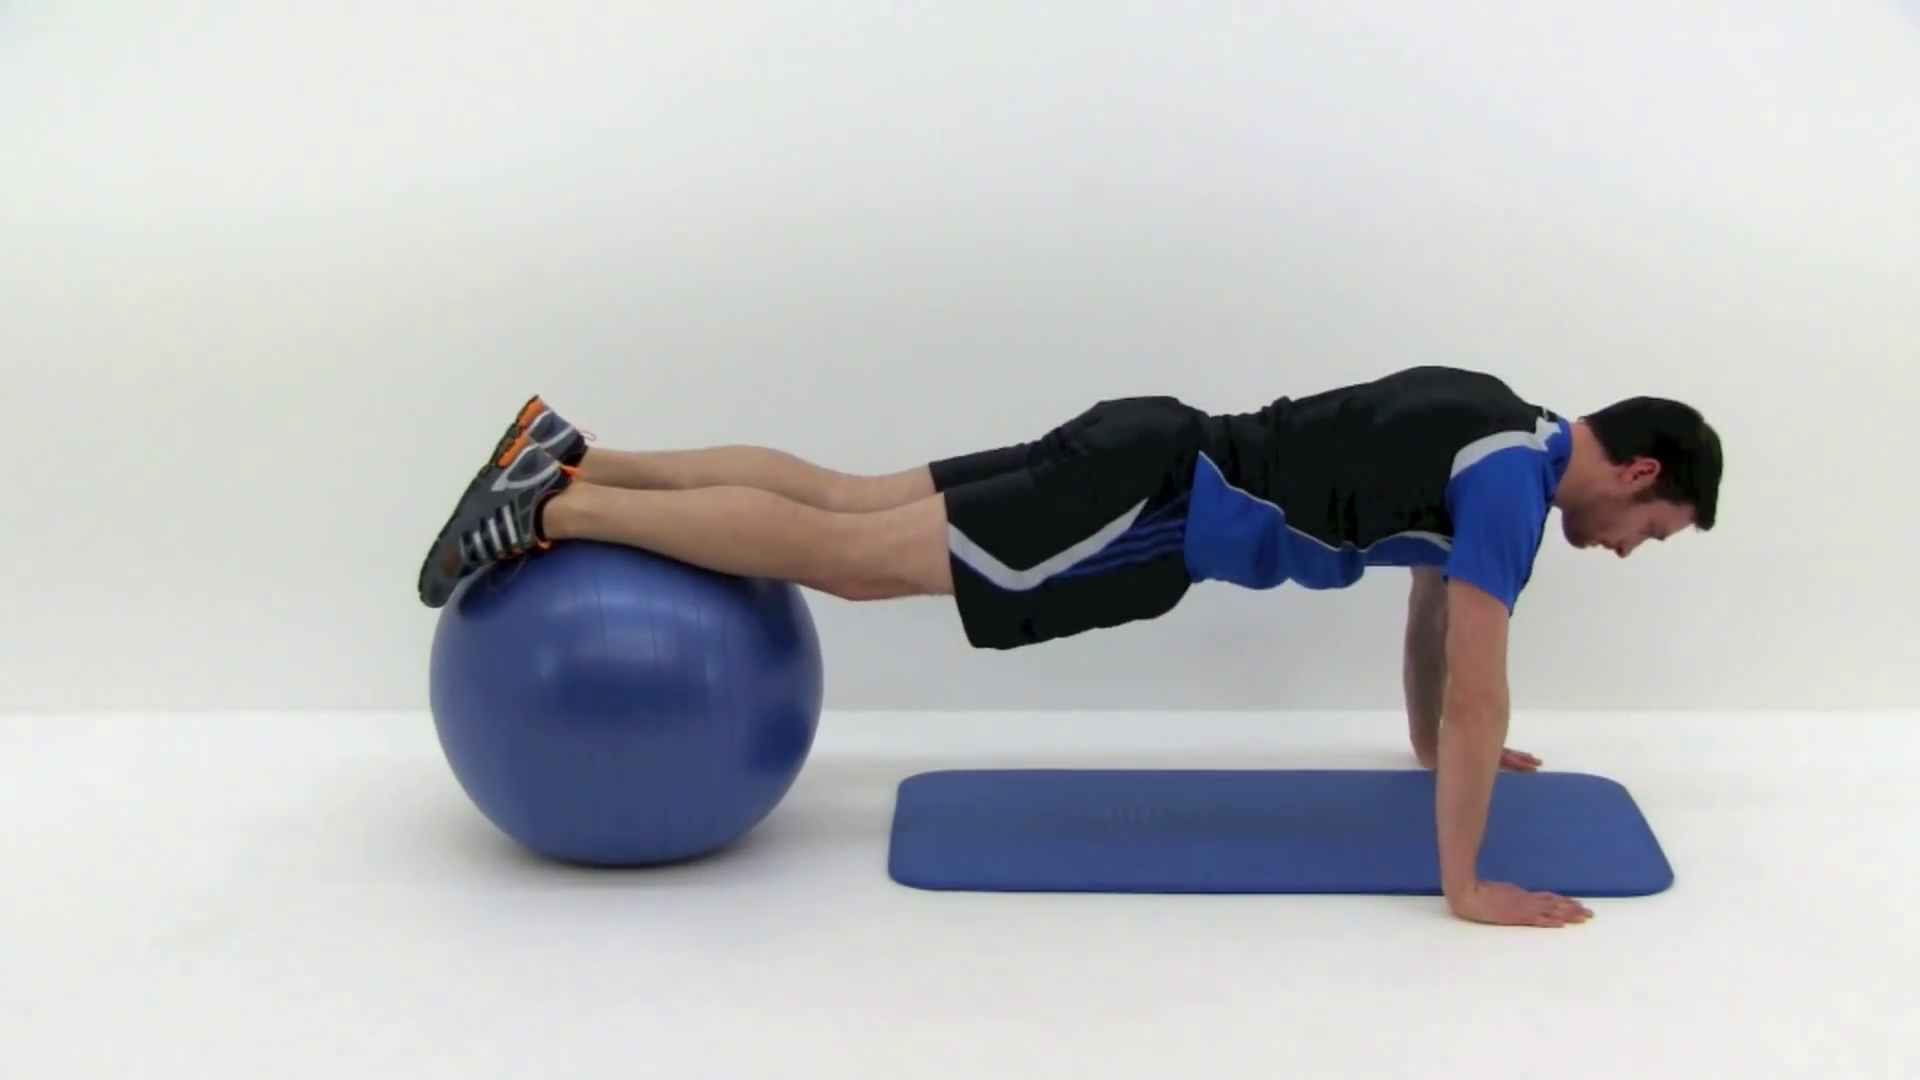yogaball: (411, 522, 868, 897)
